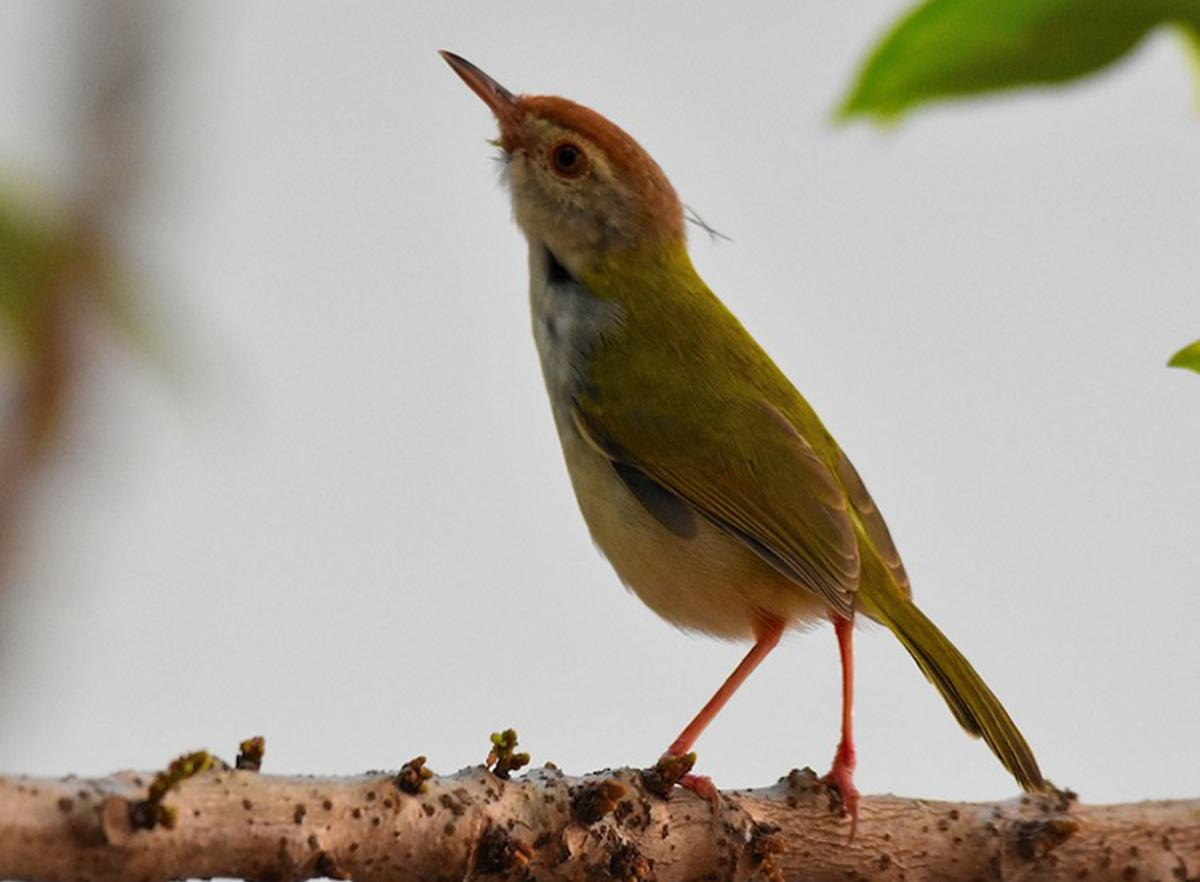tailorbird: (399, 28, 1058, 848)
